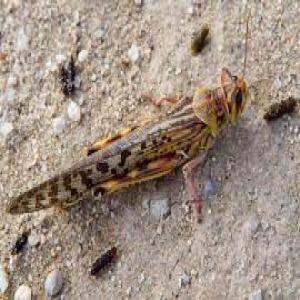locust: (8, 74, 256, 232)
